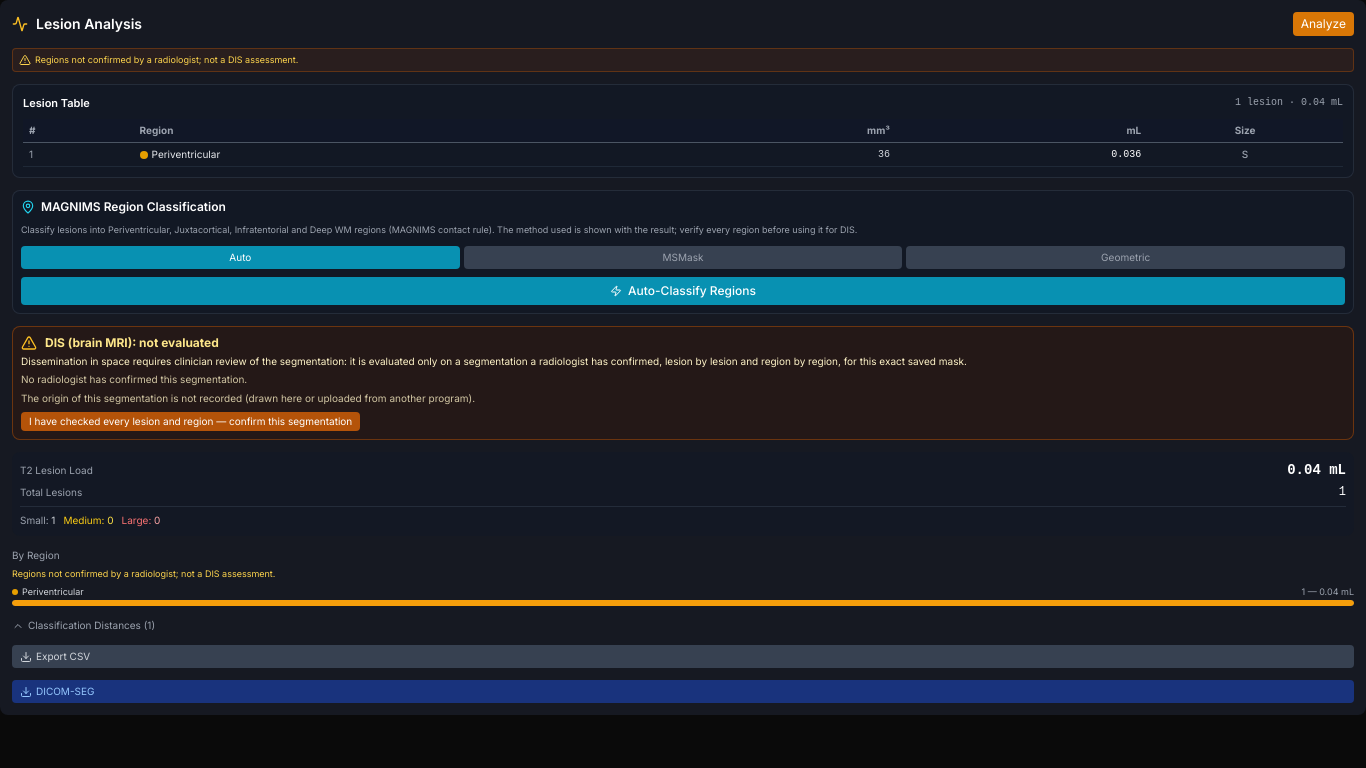
Test: R2: each value present is drawn with the label the server stored for it › rc071 release final r2 refused when the stored labels could not be read
Click the button "confirm this segmentation" at (191, 422), box [21, 412, 360, 431]
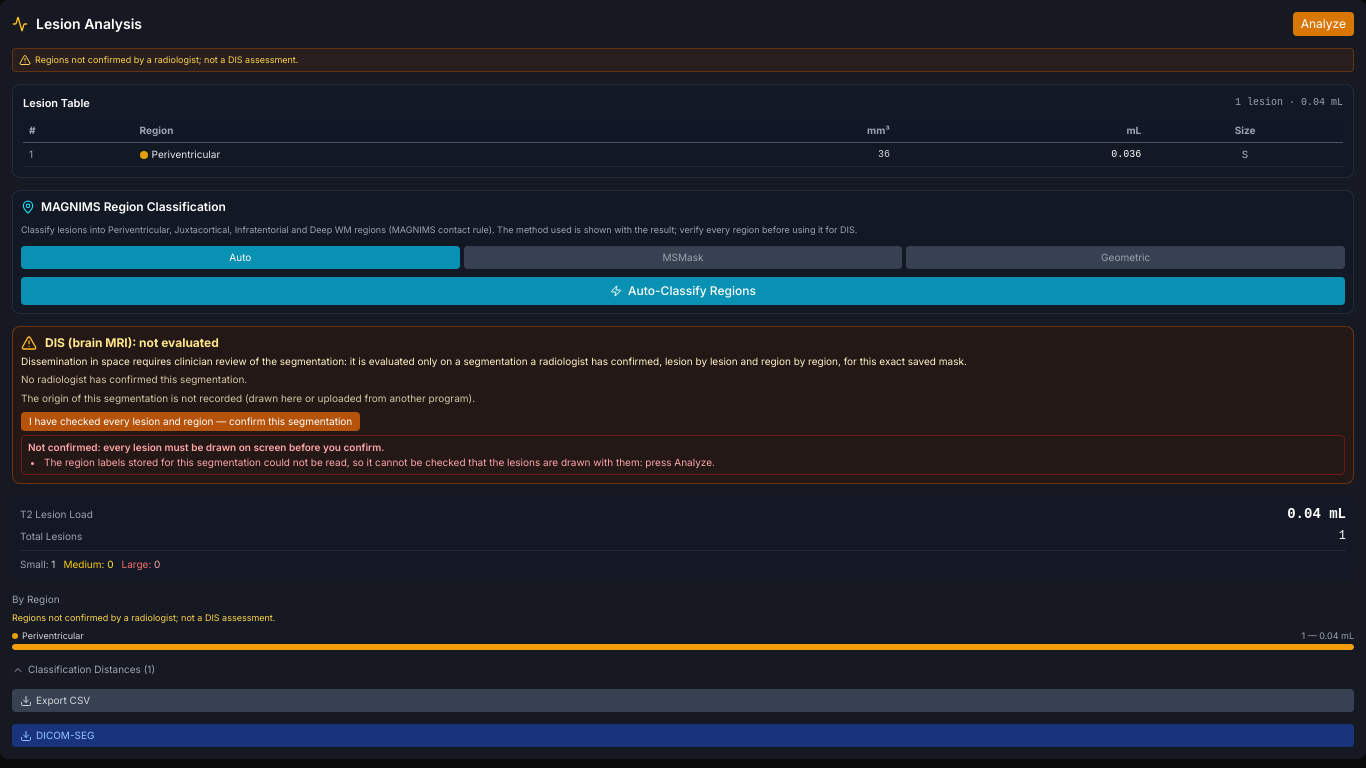
Expected: the message with test id "dis-confirm-refused" shows "stored for this segmentation could not be read", [44, 456, 715, 468]
